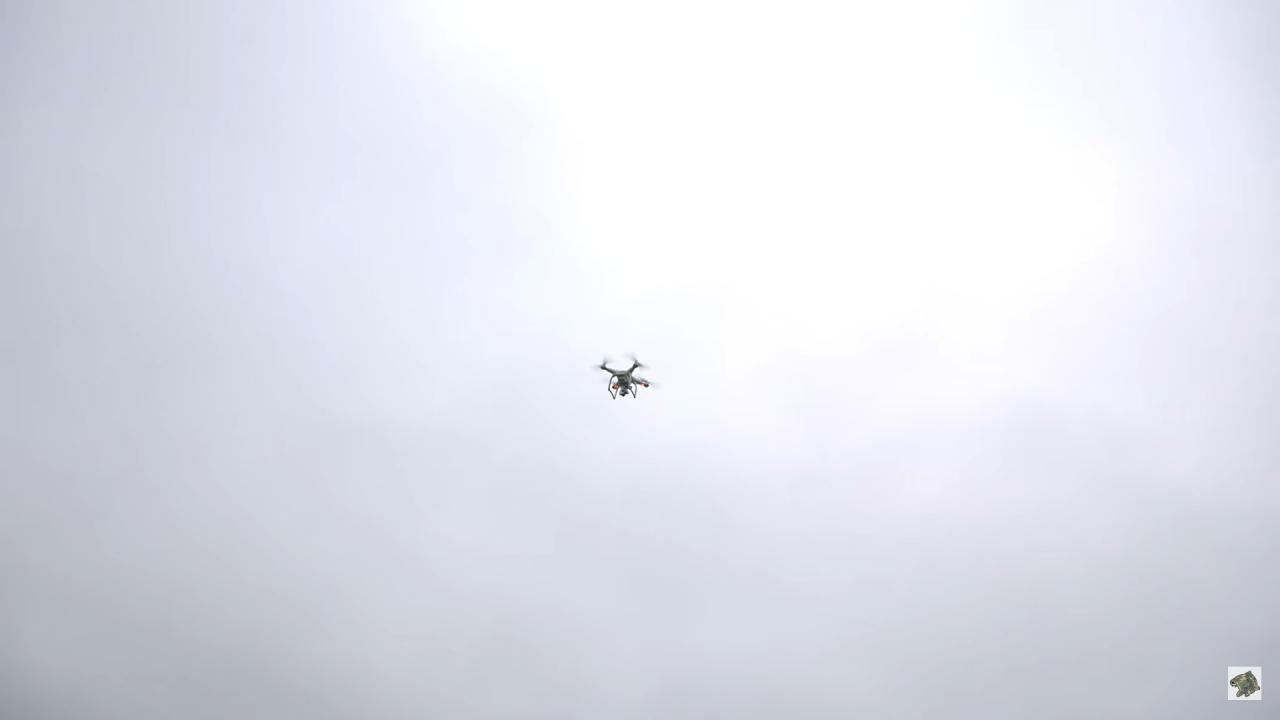Drone: (581, 344, 665, 414)
